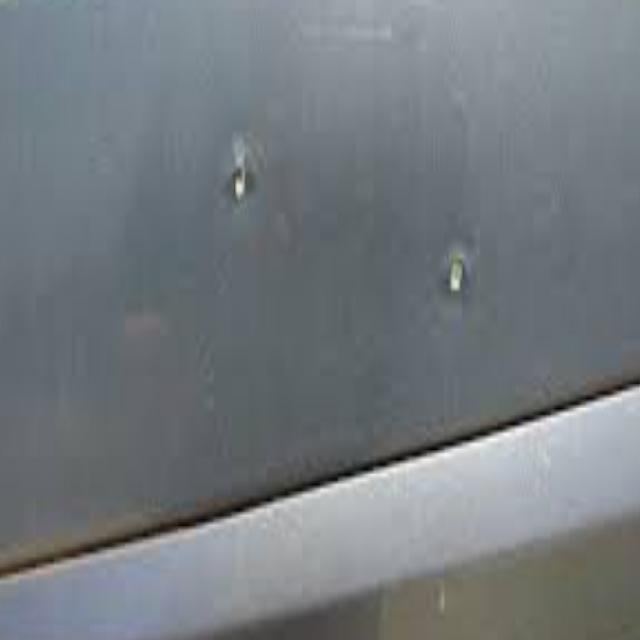dents: (220, 123, 272, 241), (434, 228, 490, 336)
